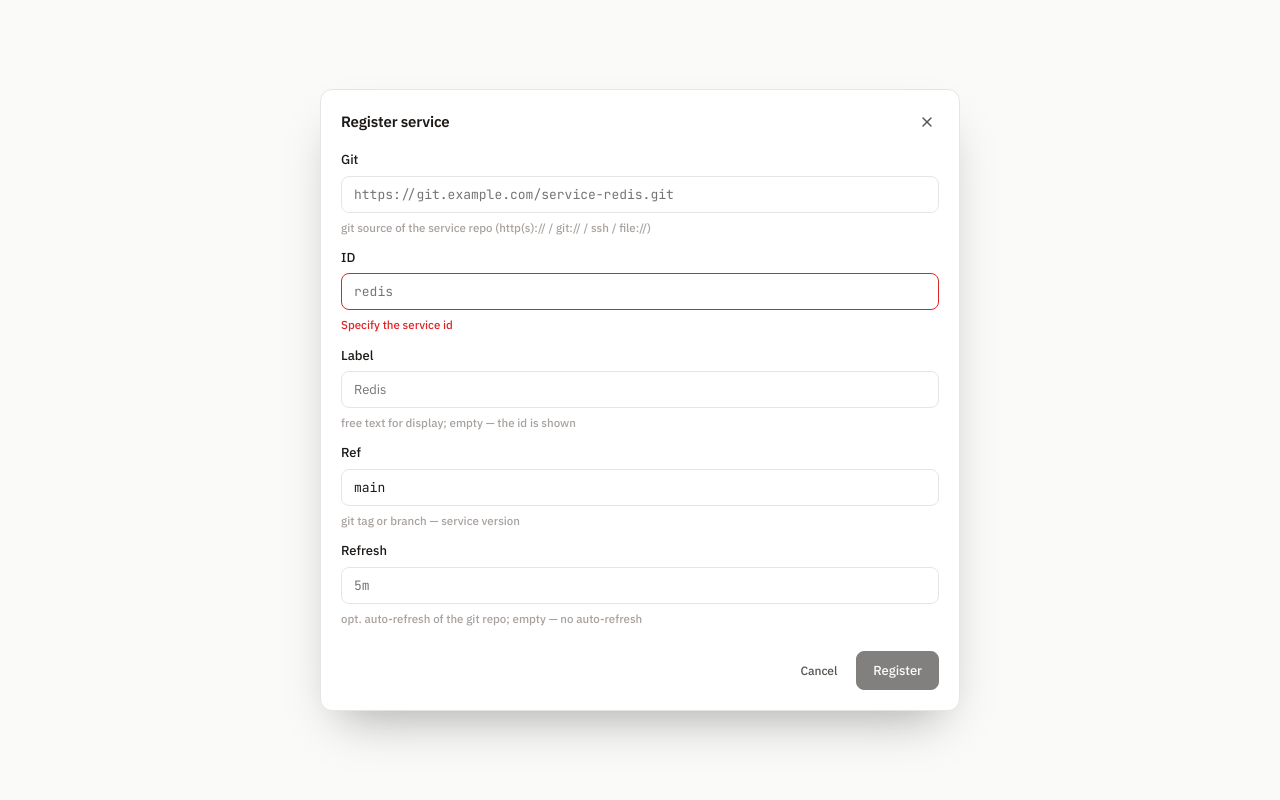
Scenario: a create whose caption write is refused › does not offer a resubmit that would 409 on the id it just took
In the field with placeholder "https://git.example.com/service-redis.git": (640, 194) [341, 176, 939, 213], type "https://git.example.com/redis.git"
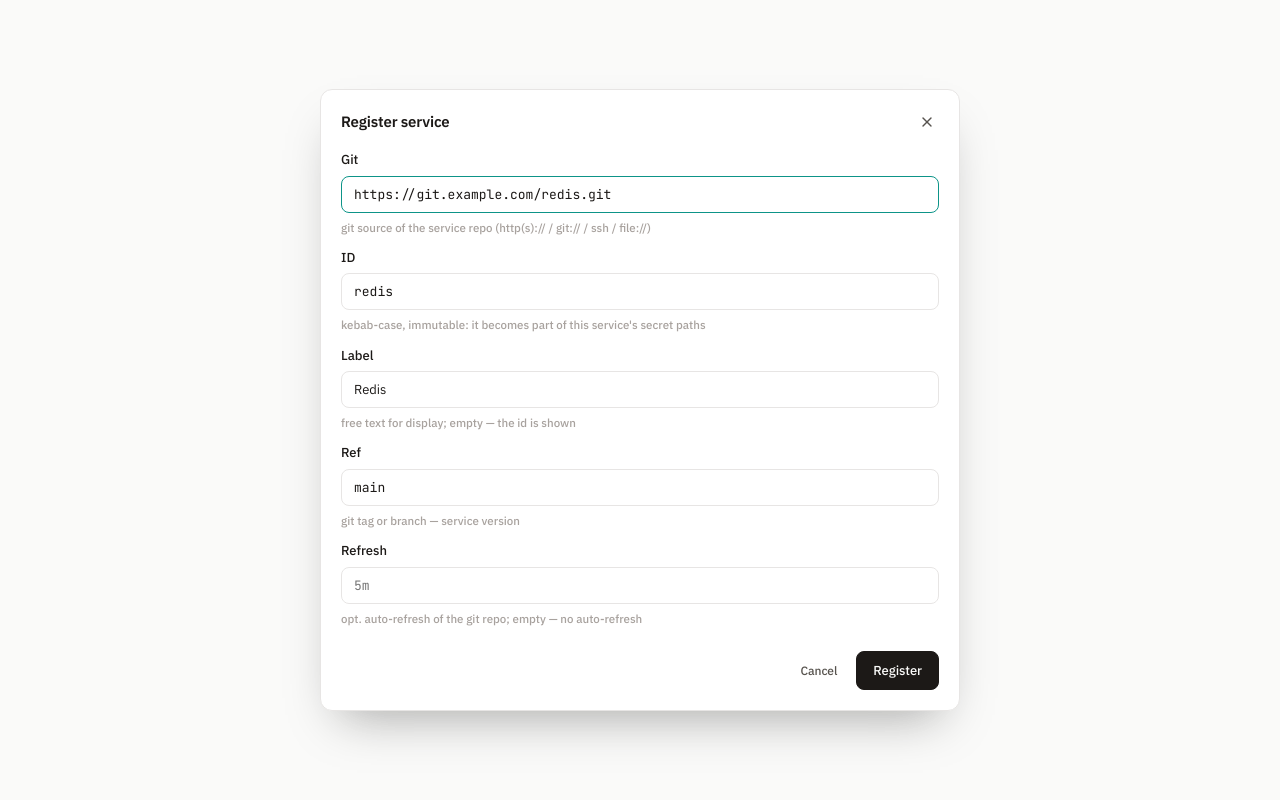
Result: the field with placeholder "redis" holds "redis" at [341, 273, 939, 310]
Result: the button "Register" is enabled
Click the button "Register": (898, 670) [856, 651, 939, 690]
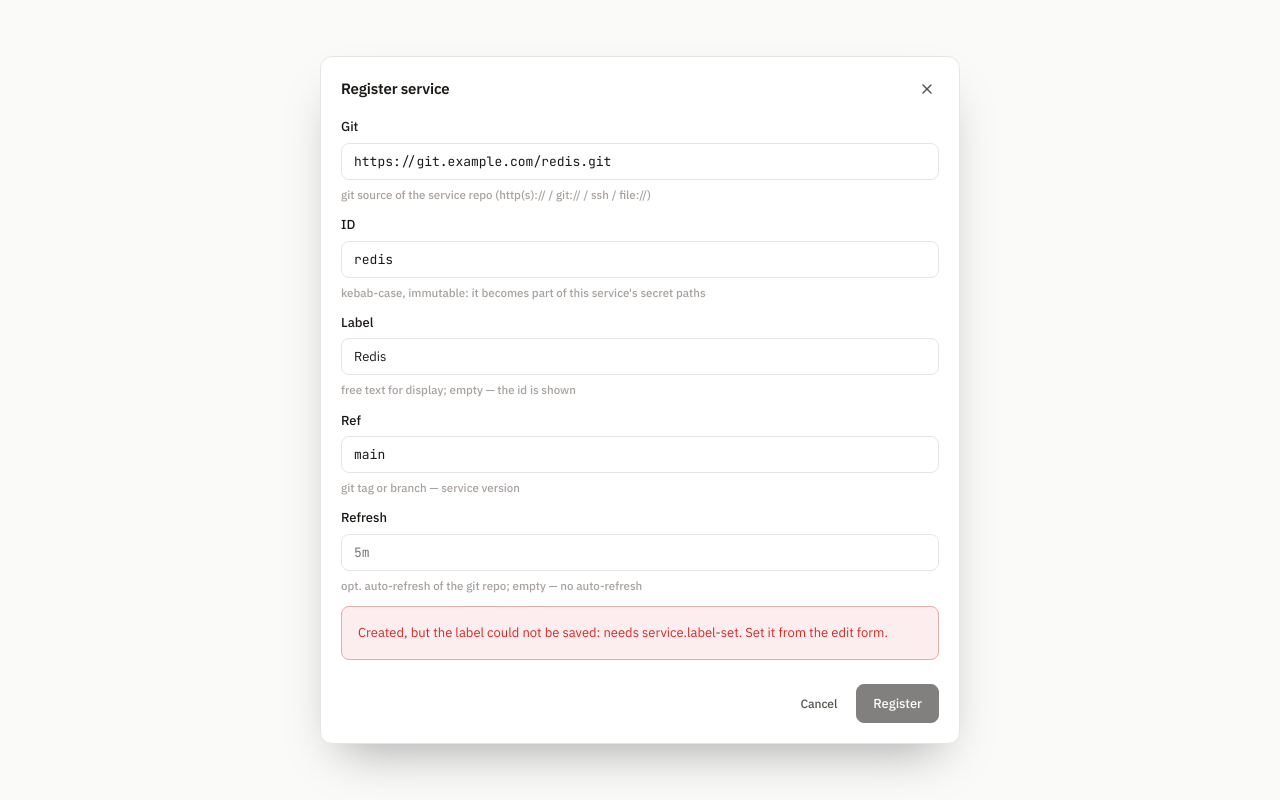
Result: the message shows "label could not be saved" at [358, 624, 888, 641]
Result: the button "Register" is disabled at [856, 684, 939, 723]
